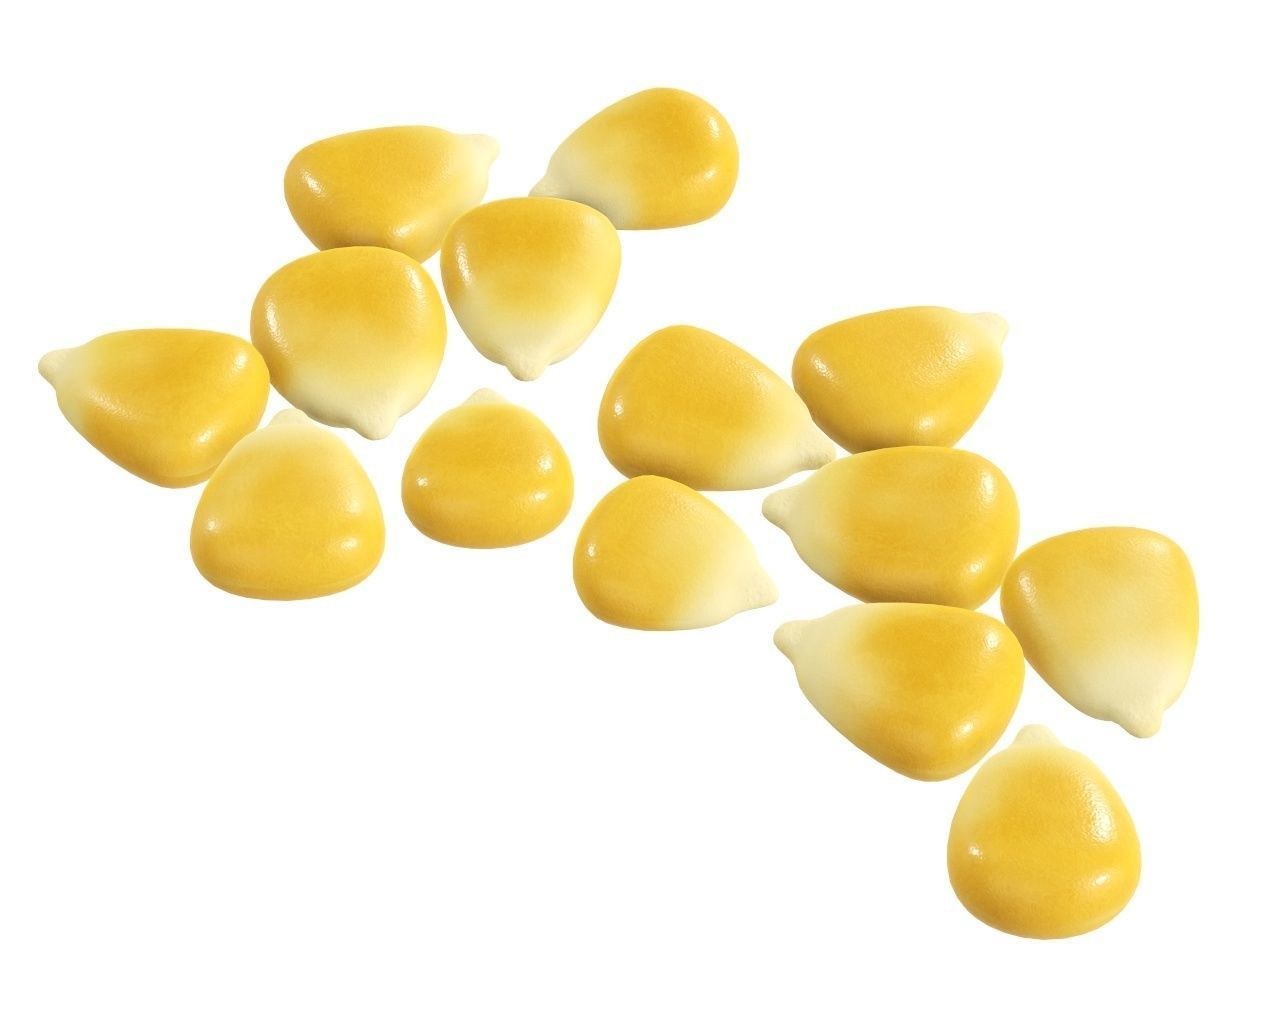corn: (938, 712, 1149, 934), (760, 441, 1023, 612), (771, 601, 1023, 778), (594, 330, 850, 501), (256, 241, 460, 452), (41, 327, 275, 501), (1004, 527, 1197, 730), (193, 415, 393, 608), (445, 193, 619, 390), (793, 304, 1015, 452), (567, 475, 771, 634), (282, 123, 497, 264), (530, 90, 734, 234), (408, 397, 586, 549)
